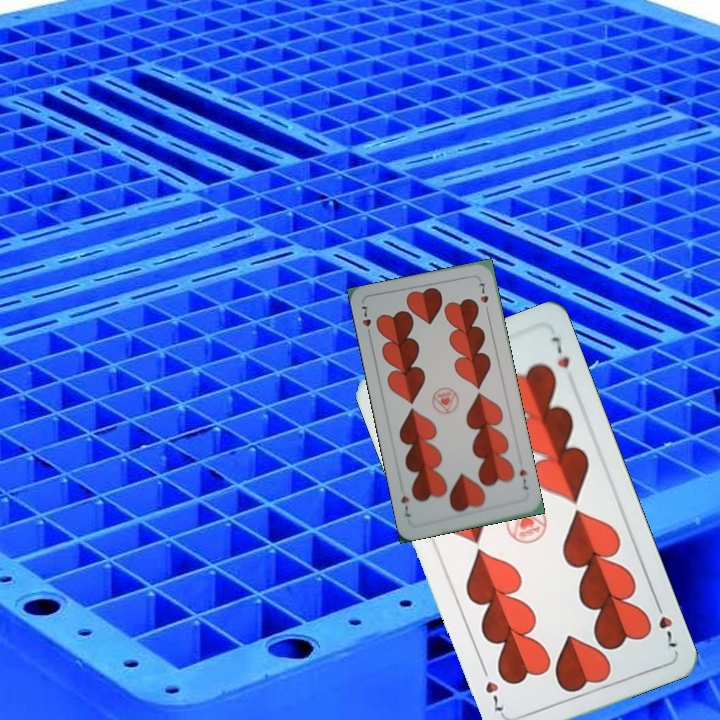H7: (651, 596, 680, 650), (358, 301, 374, 340), (515, 465, 531, 492)
